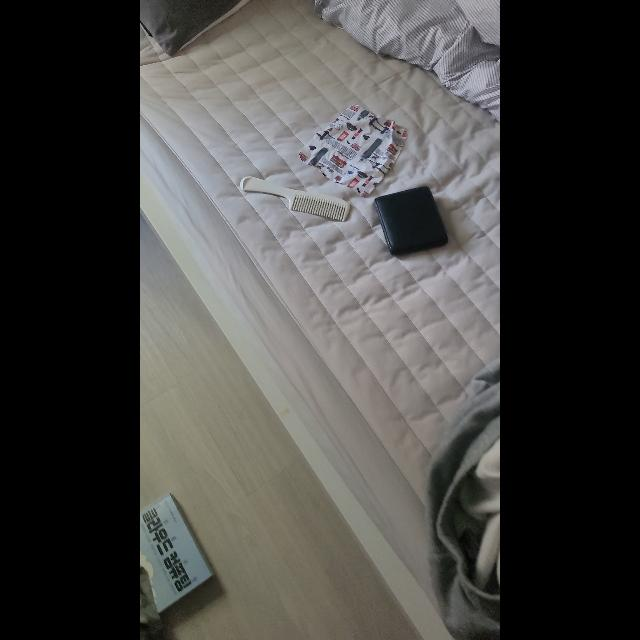COMB: (240, 176, 350, 222)
Glasses cleaning cloth: (298, 104, 408, 196)
WALLET: (374, 186, 448, 256)
